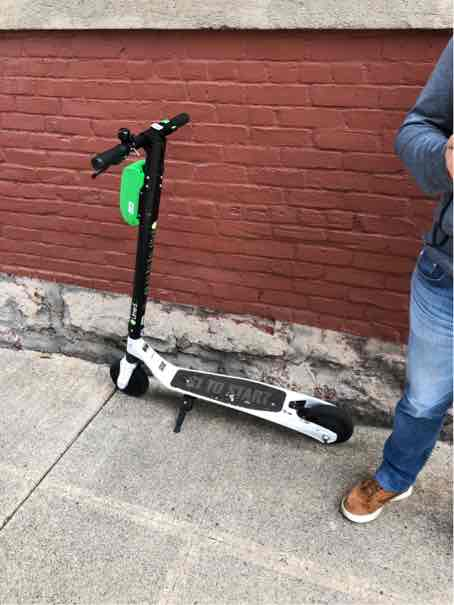scooter: (77, 104, 367, 463)
